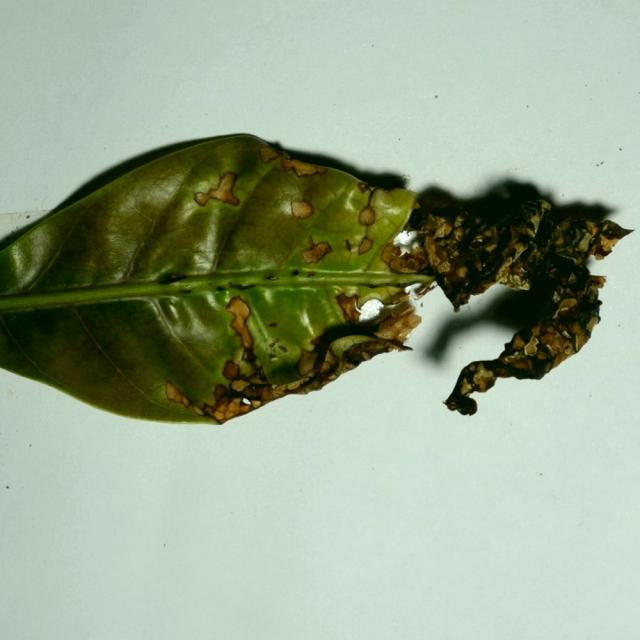Anthracnose: (494, 231, 538, 285), (223, 290, 257, 358), (340, 337, 414, 366), (373, 303, 422, 343), (202, 390, 256, 425), (194, 171, 241, 208), (382, 241, 427, 276), (280, 156, 327, 179), (300, 234, 332, 264), (465, 272, 500, 297), (334, 292, 361, 324), (164, 379, 193, 408), (443, 392, 477, 416), (284, 371, 320, 392), (471, 364, 496, 390), (296, 350, 319, 377), (346, 236, 374, 258), (263, 336, 289, 358), (289, 200, 314, 219), (508, 357, 534, 374), (571, 329, 591, 351), (551, 347, 573, 367), (380, 243, 399, 266), (597, 235, 619, 254), (259, 145, 282, 163), (257, 385, 279, 402), (358, 206, 376, 226), (523, 335, 540, 356), (558, 298, 578, 314), (433, 221, 451, 238), (584, 285, 600, 304), (510, 333, 527, 350), (213, 383, 229, 401), (576, 234, 592, 252), (587, 275, 607, 289), (584, 315, 599, 332), (459, 377, 473, 395), (194, 192, 210, 207), (540, 331, 556, 346), (455, 292, 471, 307), (568, 321, 583, 335), (510, 242, 525, 256), (357, 181, 374, 193), (470, 237, 485, 250), (453, 227, 466, 241), (481, 229, 495, 241), (456, 266, 468, 279), (567, 272, 579, 284), (484, 243, 497, 253), (359, 351, 371, 361), (308, 234, 316, 247), (589, 274, 606, 280), (345, 239, 352, 253), (564, 344, 573, 354), (562, 330, 572, 339), (264, 275, 279, 281), (268, 322, 277, 328)
Mango: (0, 133, 626, 428)
